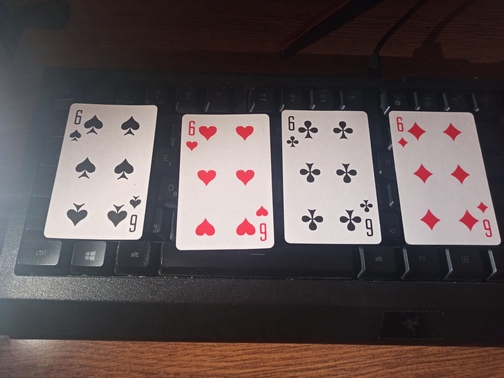sixclubs: (279, 106, 382, 247)
sixdiamonds: (390, 108, 504, 250)
sixhearts: (174, 110, 279, 250)
sixspades: (44, 101, 158, 244)
